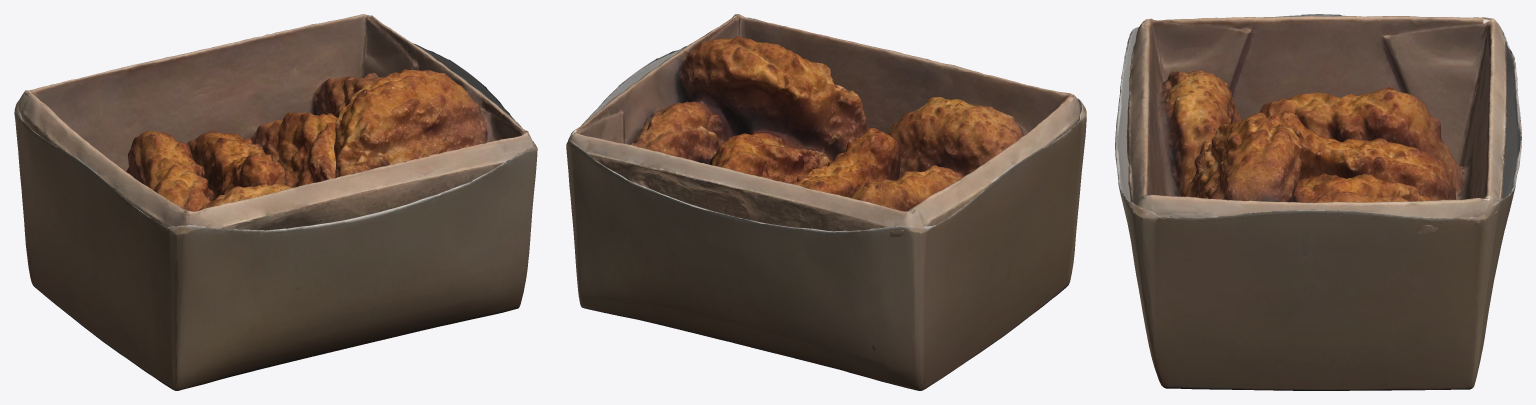
Rendered from nuget.glb.
The picture shows the model from 3 angles, left to right: view 1: azimuth 30°, elevation 25°; view 2: azimuth 150°, elevation 25°; view 3: azimuth 270°, elevation 25°; orthographic projection. The views are drawn at different scales.
Visible parts, largest first — view 1: /Root/Scenes/Scene/Object_37/Object_41/Object_42/Submesh_0, /Root/Scenes/Scene/Object_37/Object_38/Submesh_0; view 2: /Root/Scenes/Scene/Object_37/Object_41/Object_42/Submesh_0, /Root/Scenes/Scene/Object_37/Object_38/Submesh_0; view 3: /Root/Scenes/Scene/Object_37/Object_38/Submesh_0, /Root/Scenes/Scene/Object_37/Object_41/Object_42/Submesh_0.
Boxes of the visible parts, x1=… form: /Root/Scenes/Scene/Object_37/Object_41/Object_42/Submesh_0: x1=14, y1=43, x2=537, y2=390; /Root/Scenes/Scene/Object_37/Object_38/Submesh_0: x1=18, y1=14, x2=533, y2=230; /Root/Scenes/Scene/Object_37/Object_41/Object_42/Submesh_0: x1=566, y1=17, x2=1086, y2=390; /Root/Scenes/Scene/Object_37/Object_38/Submesh_0: x1=568, y1=14, x2=1080, y2=237; /Root/Scenes/Scene/Object_37/Object_38/Submesh_0: x1=1126, y1=16, x2=1507, y2=233; /Root/Scenes/Scene/Object_37/Object_41/Object_42/Submesh_0: x1=1115, y1=14, x2=1521, y2=390.
Bounding box in the file's own units: 0.1231 × 0.0659 × 0.1076.
2 materials, 2 textured.
